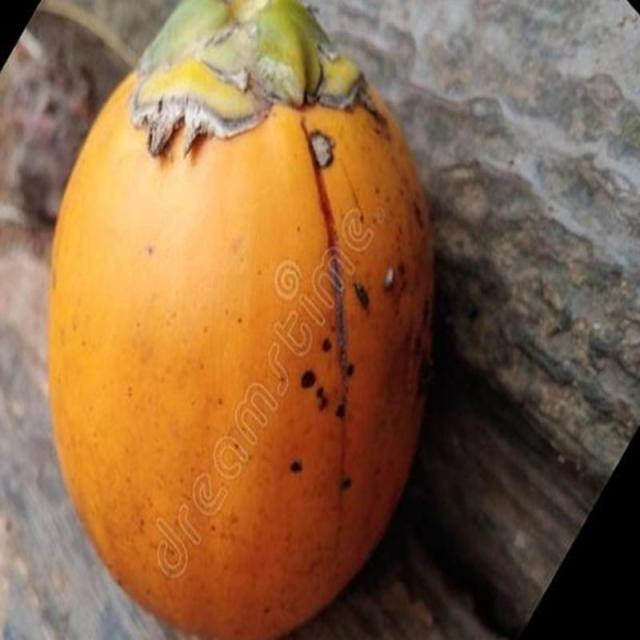good: (45, 0, 439, 639)
